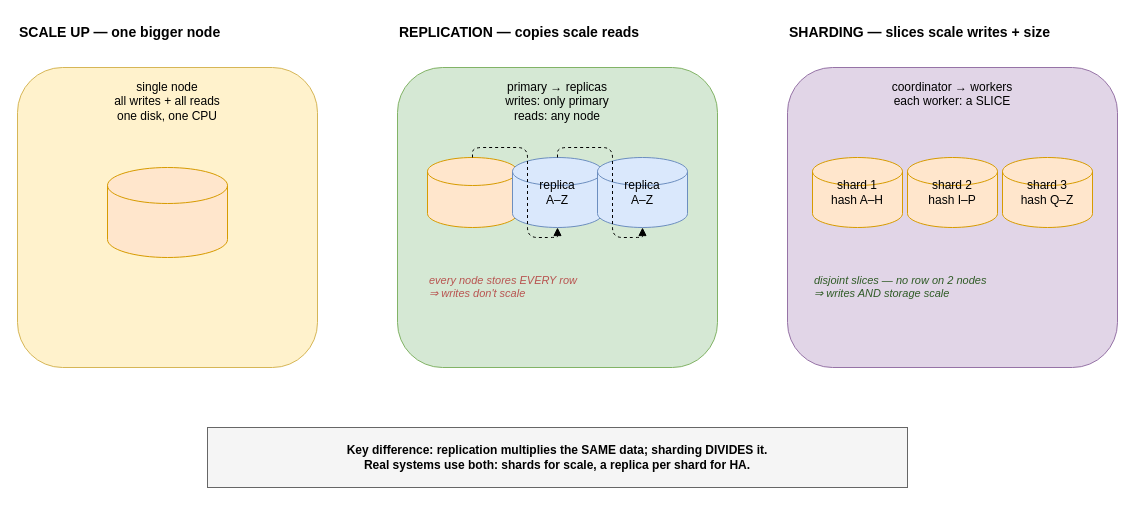
Image size: 1145x505. Some labels were removed from this diagram. The centre of each missing label's shape, as x and y in pixels:
"bazaar ALL rows" belongs at (167,212).
"PRIMARY A–Z" belongs at (472,192).
